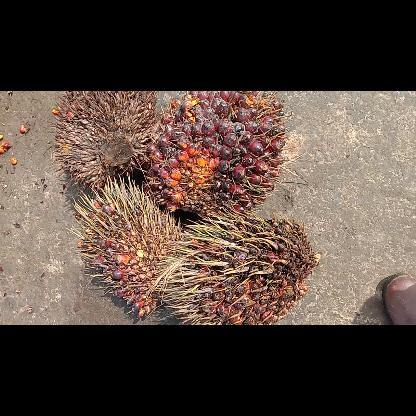Kurang masak: (161, 214, 319, 324)
TBS abnormal: (68, 176, 180, 318), (54, 91, 158, 189)
Terlalu masak: (142, 90, 288, 218)
